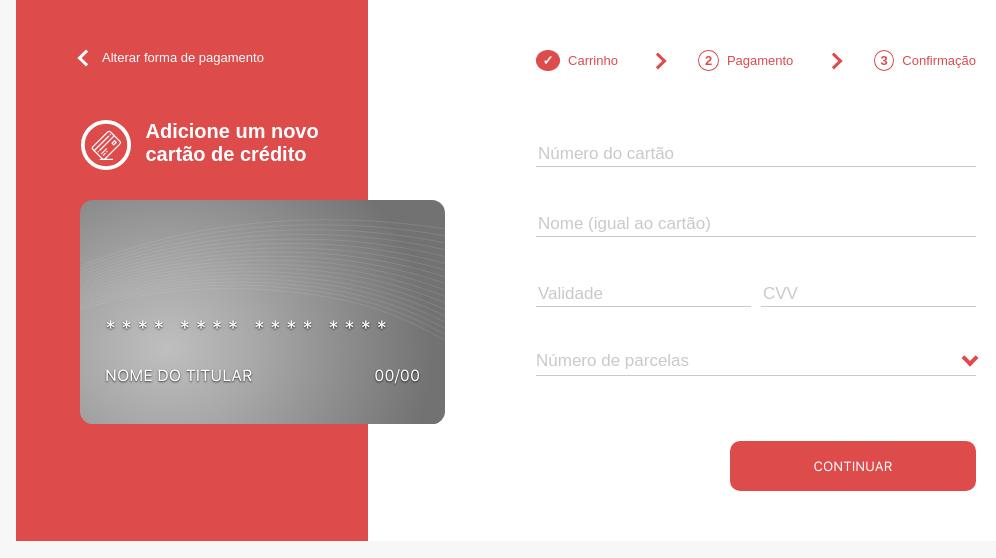
Test: Formulário de pagamento › Deve exibir erro quando não enviar o nome completo
This screenshot has width=996, height=558.
Step 1. Type "Matheus" into the field labelled "Nome (igual ao cartão)" → (756, 224), box [536, 211, 976, 237]
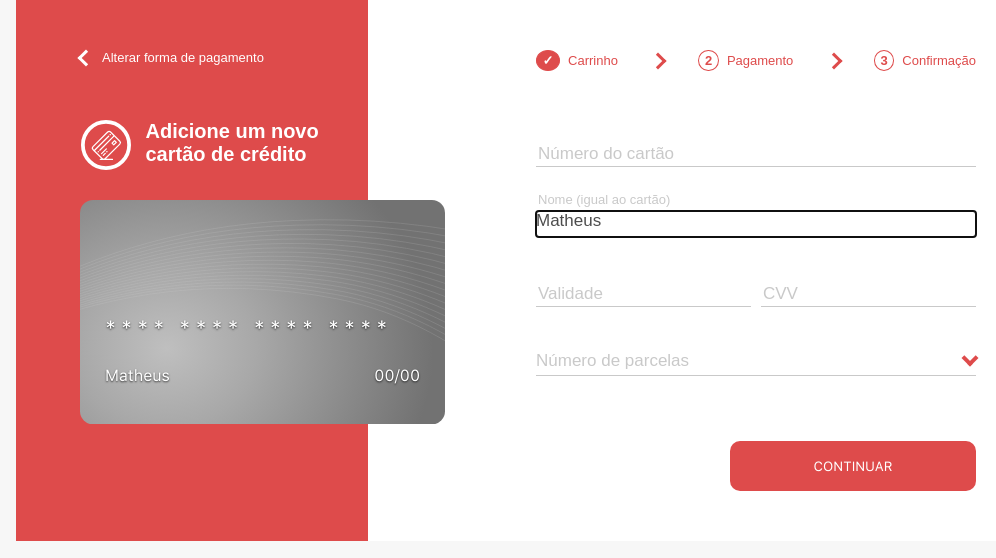
Step 2. Submit the form with test id "payment-form", box [536, 141, 976, 491]
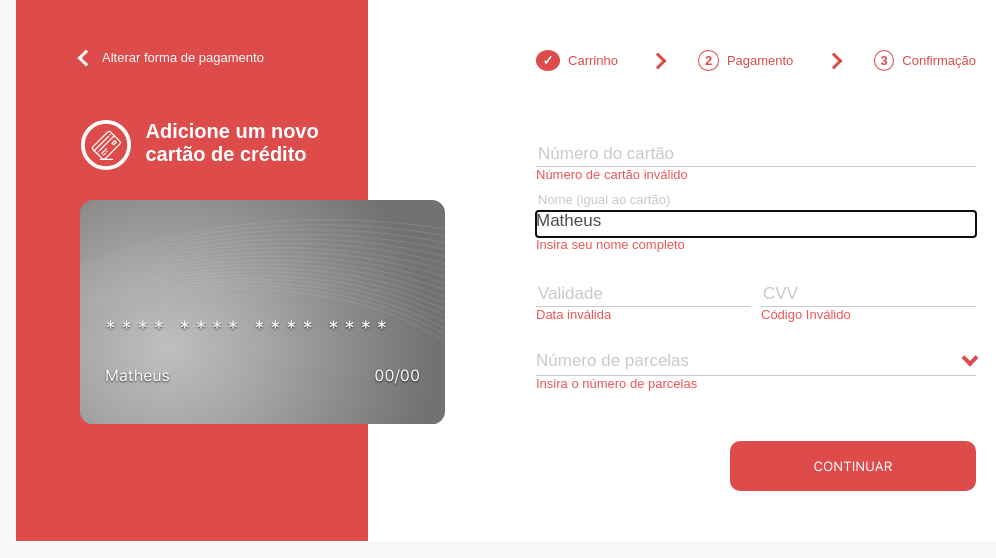
Check: the text "Insira seu nome completo" is shown, box [536, 237, 685, 252]
